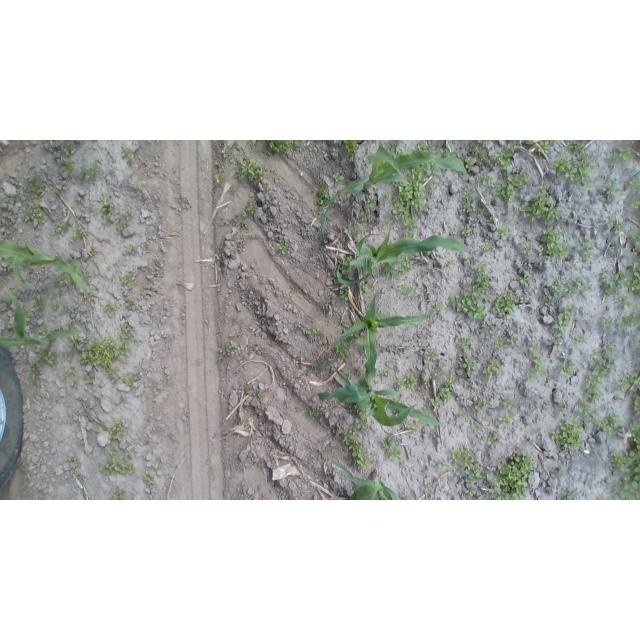Maize: (322, 141, 466, 242), (329, 294, 431, 382), (317, 365, 444, 431), (338, 226, 468, 285), (1, 240, 90, 301), (0, 285, 84, 347), (330, 461, 400, 499), (48, 187, 88, 237), (77, 397, 104, 427), (72, 474, 92, 500)
Weeds: (447, 260, 491, 321), (519, 180, 569, 224), (389, 168, 428, 221), (494, 452, 535, 501), (79, 338, 127, 375), (584, 358, 615, 406), (612, 449, 639, 500), (601, 264, 640, 297), (340, 428, 368, 469), (552, 419, 584, 451), (494, 173, 530, 201), (538, 227, 570, 257), (578, 149, 598, 188), (234, 159, 266, 182), (100, 456, 135, 476), (492, 291, 521, 315), (553, 305, 577, 331), (495, 144, 516, 171), (98, 194, 116, 225), (555, 157, 578, 180), (599, 413, 621, 436), (605, 215, 626, 238), (473, 140, 493, 164), (24, 206, 49, 225), (577, 234, 595, 260), (616, 371, 638, 392), (380, 437, 400, 460), (36, 350, 59, 370), (452, 448, 477, 466), (267, 140, 301, 153), (350, 406, 368, 429), (78, 164, 101, 181), (395, 374, 416, 392), (317, 182, 332, 207), (602, 180, 620, 200), (458, 202, 485, 215), (466, 465, 491, 479), (404, 217, 421, 237), (460, 357, 477, 377), (618, 311, 639, 327), (108, 421, 124, 442), (30, 176, 45, 198), (628, 421, 640, 448), (483, 359, 501, 377), (49, 290, 64, 311), (214, 162, 227, 186), (569, 334, 587, 351), (629, 232, 640, 259), (307, 405, 328, 419), (308, 326, 329, 340), (560, 360, 576, 378), (63, 140, 80, 156), (386, 140, 402, 156), (599, 311, 614, 328), (479, 169, 493, 187), (57, 159, 75, 173), (540, 140, 558, 154), (485, 432, 504, 445), (533, 357, 546, 376), (489, 335, 505, 350), (53, 221, 68, 237), (119, 322, 133, 339), (615, 148, 633, 161), (121, 375, 142, 386), (244, 199, 258, 215), (121, 273, 135, 289), (579, 399, 593, 415), (364, 192, 378, 208), (67, 456, 81, 472), (56, 276, 73, 289), (404, 419, 421, 432), (497, 411, 515, 423), (399, 284, 417, 296), (385, 265, 403, 277), (497, 227, 511, 242), (563, 141, 584, 151), (439, 386, 454, 400), (425, 398, 440, 412), (222, 143, 233, 162), (112, 487, 128, 500), (563, 281, 575, 298), (551, 280, 563, 297), (629, 176, 640, 194), (420, 483, 438, 494), (521, 241, 534, 256), (425, 348, 440, 361), (400, 258, 415, 271), (474, 398, 490, 410), (277, 238, 289, 254), (340, 258, 350, 277), (439, 147, 456, 158), (336, 343, 349, 357), (250, 311, 263, 325), (624, 329, 637, 343), (463, 187, 476, 201), (104, 302, 117, 316), (72, 223, 85, 237), (344, 140, 359, 152), (123, 296, 135, 311), (508, 211, 520, 226), (378, 216, 390, 231), (573, 276, 585, 291), (348, 221, 360, 236), (408, 342, 419, 358), (462, 485, 478, 496), (542, 290, 555, 303), (619, 296, 632, 309), (143, 472, 156, 485), (401, 488, 415, 500), (124, 243, 138, 255), (429, 163, 440, 178), (609, 245, 621, 258), (606, 342, 619, 354), (459, 337, 472, 349), (337, 289, 349, 302), (63, 350, 76, 362), (120, 147, 132, 160), (314, 358, 327, 370), (431, 369, 445, 380), (330, 269, 339, 286), (453, 408, 468, 418), (521, 276, 533, 288), (529, 344, 541, 356), (432, 302, 444, 314), (240, 220, 251, 233), (445, 377, 458, 388), (626, 198, 640, 208), (114, 217, 124, 231), (380, 190, 390, 204), (34, 298, 44, 312), (217, 346, 227, 360), (372, 263, 381, 278), (332, 173, 344, 184), (423, 329, 434, 341), (229, 314, 240, 326), (81, 266, 92, 278), (123, 208, 133, 221), (558, 467, 571, 477), (486, 216, 496, 229), (503, 397, 516, 407), (361, 281, 371, 294), (37, 326, 51, 335), (221, 216, 232, 227), (361, 210, 372, 221), (75, 195, 86, 206), (508, 336, 519, 347), (330, 140, 345, 148), (302, 365, 314, 375), (415, 143, 430, 151), (431, 428, 441, 440), (85, 373, 95, 385), (265, 209, 275, 221), (481, 242, 493, 252), (588, 350, 600, 360), (383, 366, 393, 378), (257, 386, 266, 399), (559, 492, 573, 500), (109, 371, 117, 385), (229, 339, 240, 349), (107, 446, 117, 457), (438, 461, 449, 471), (596, 492, 609, 500), (632, 395, 638, 412), (94, 392, 104, 402), (496, 322, 507, 331), (30, 364, 39, 375), (70, 378, 79, 389), (472, 422, 480, 434), (466, 156, 474, 168), (25, 312, 33, 324), (462, 226, 471, 236), (213, 252, 223, 261), (67, 338, 76, 348), (60, 373, 68, 384), (560, 408, 569, 417), (68, 366, 77, 375), (524, 372, 534, 380), (69, 323, 79, 331), (553, 338, 563, 346), (182, 198, 190, 208), (627, 216, 636, 224), (346, 370, 354, 379), (274, 333, 284, 340), (117, 396, 124, 406), (333, 197, 341, 205), (142, 438, 150, 446), (145, 416, 153, 424), (424, 380, 431, 389), (247, 386, 254, 395), (123, 452, 130, 461), (92, 211, 99, 219), (127, 160, 133, 169), (288, 284, 296, 290), (585, 283, 591, 291), (13, 179, 21, 185)
